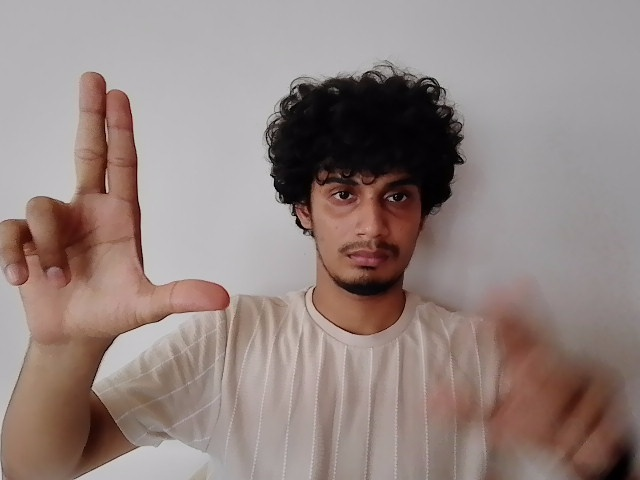no: (4, 69, 230, 343)
